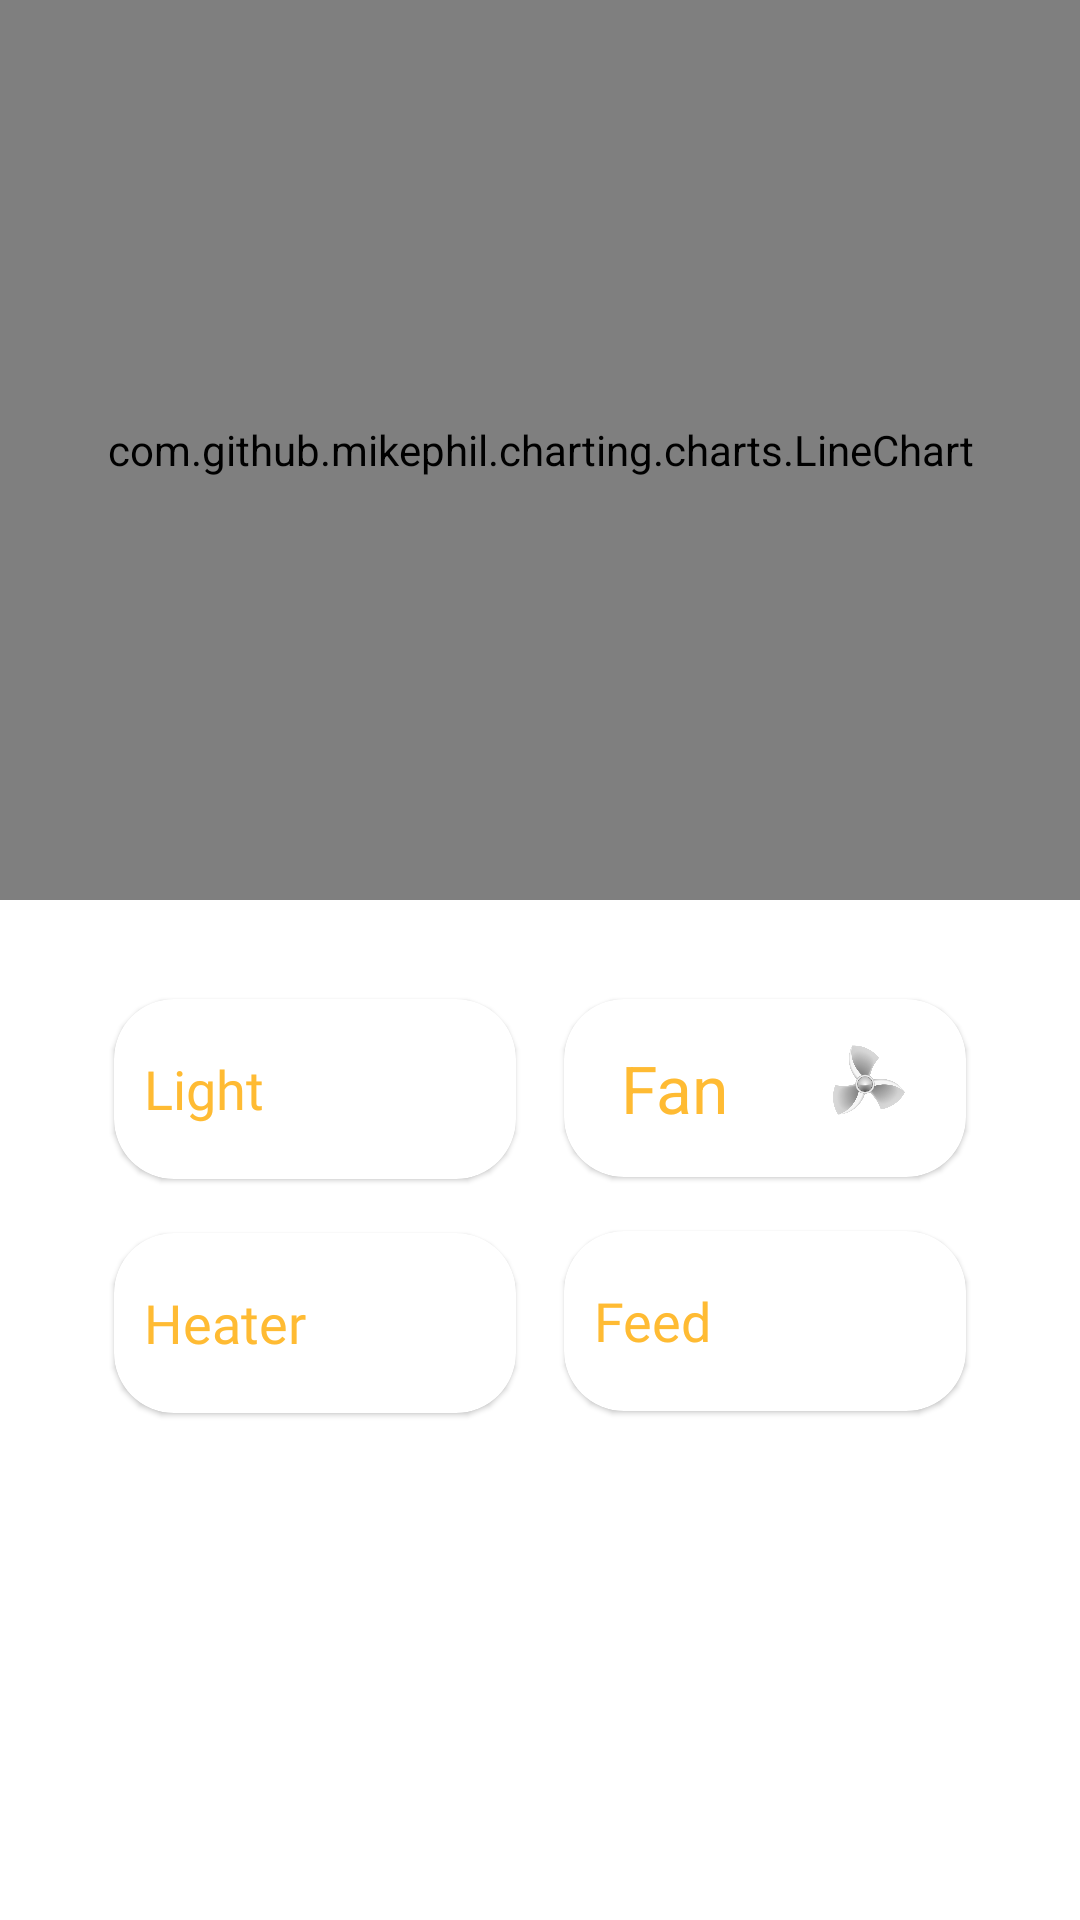

Icons on this 1080 x 1920 Android screen, each with the point to tap as [x,y]:
fanoff: [869,1080]
